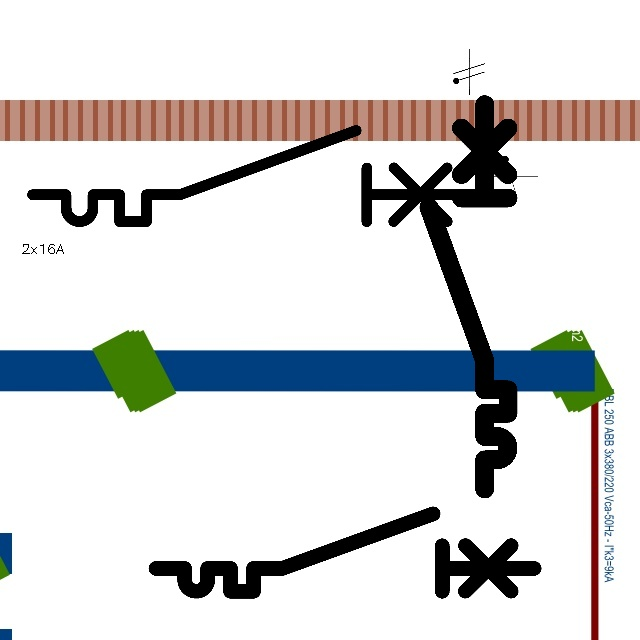interruptor_termomagnetico: (21, 119, 485, 233), (419, 94, 518, 498), (146, 504, 543, 601)
